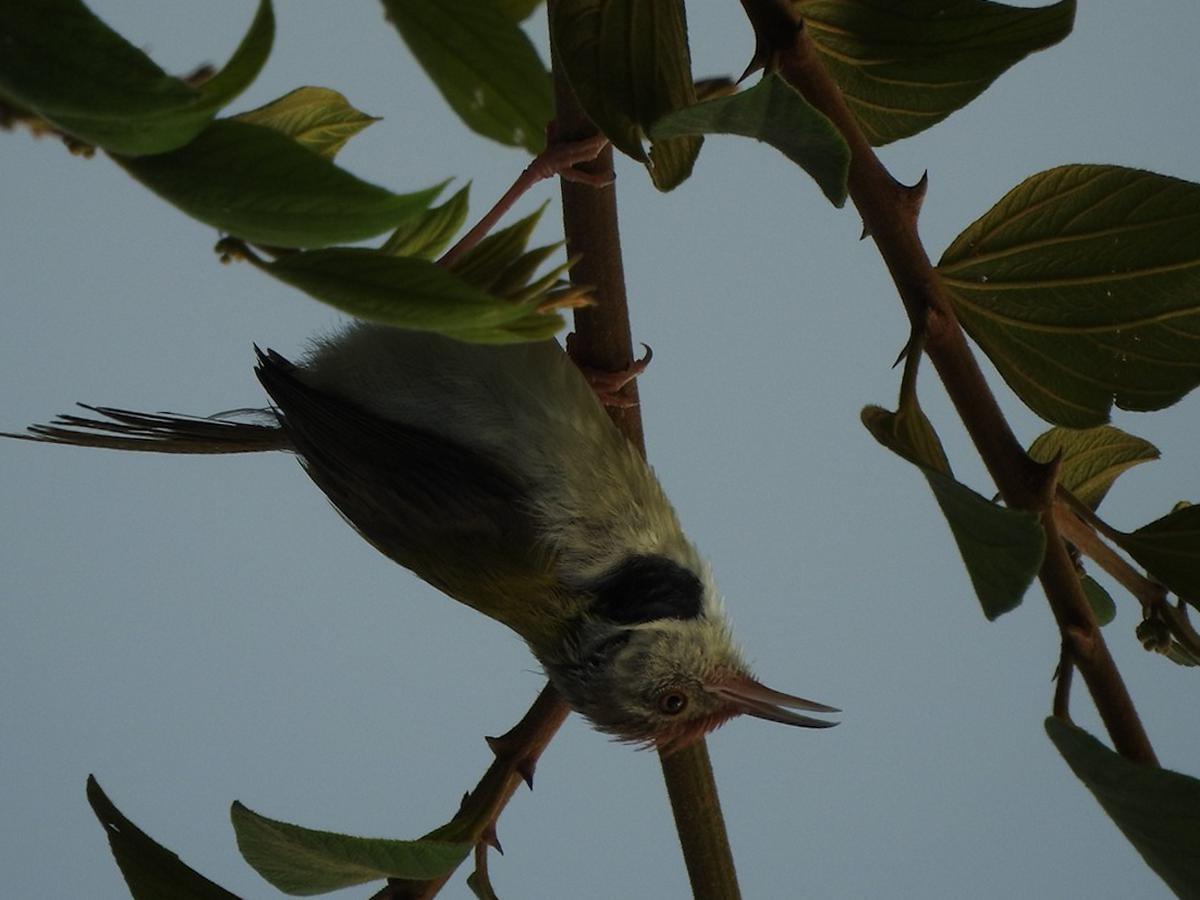tailorbird: (127, 234, 850, 784)
